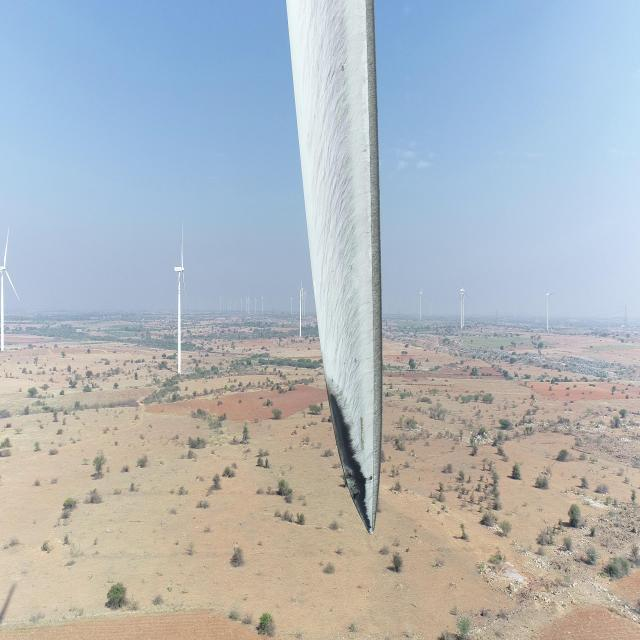Dirt: (283, 0, 383, 530)
Oil LEAKAGE: (327, 390, 373, 528)
Pin Hole: (345, 470, 376, 500)
